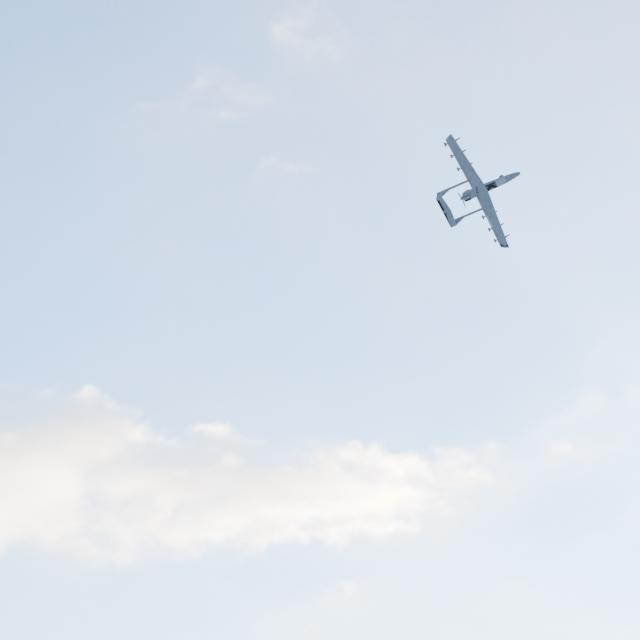Airaplan: (436, 133, 521, 248)
